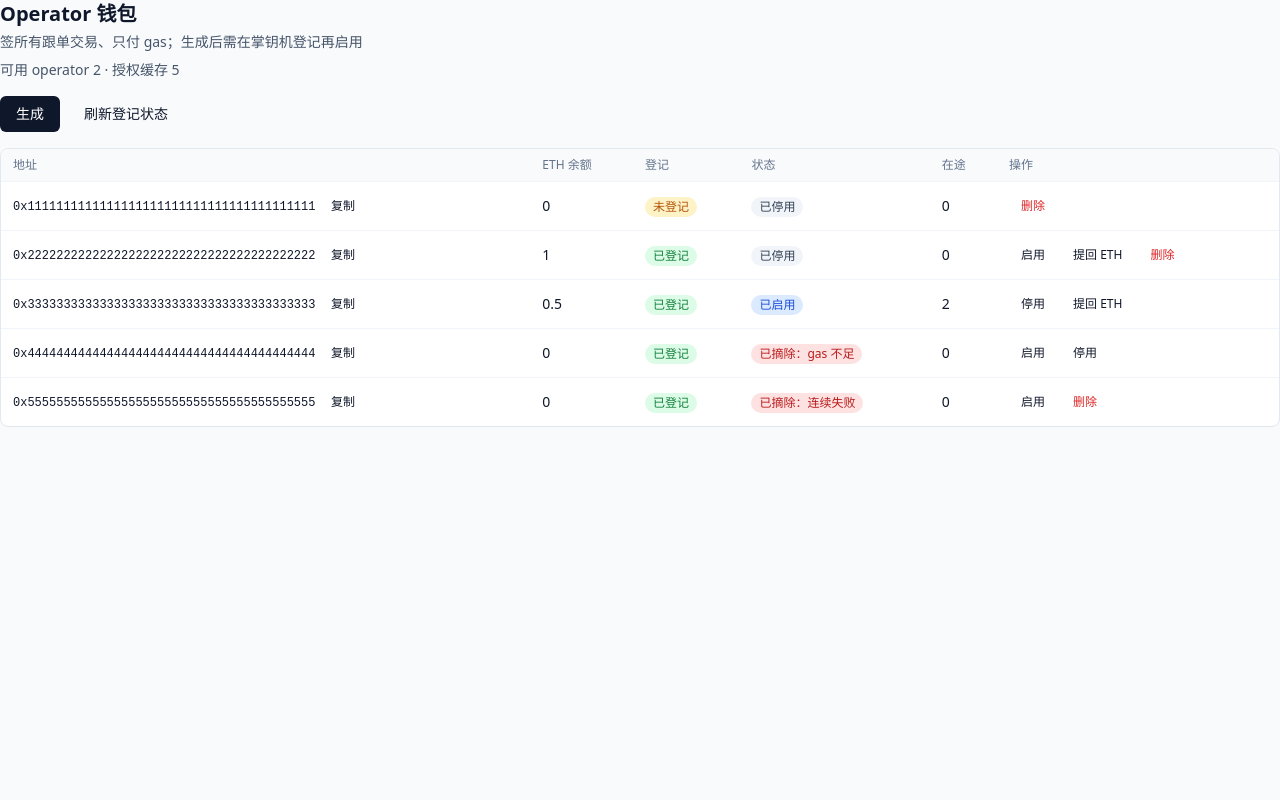
Scenario: shows a force-bypassable 409 delete message with a 强制删除 button that retries with force=true
Click the 2nd button "删除": click(1162, 255) [1138,239,1186,271]
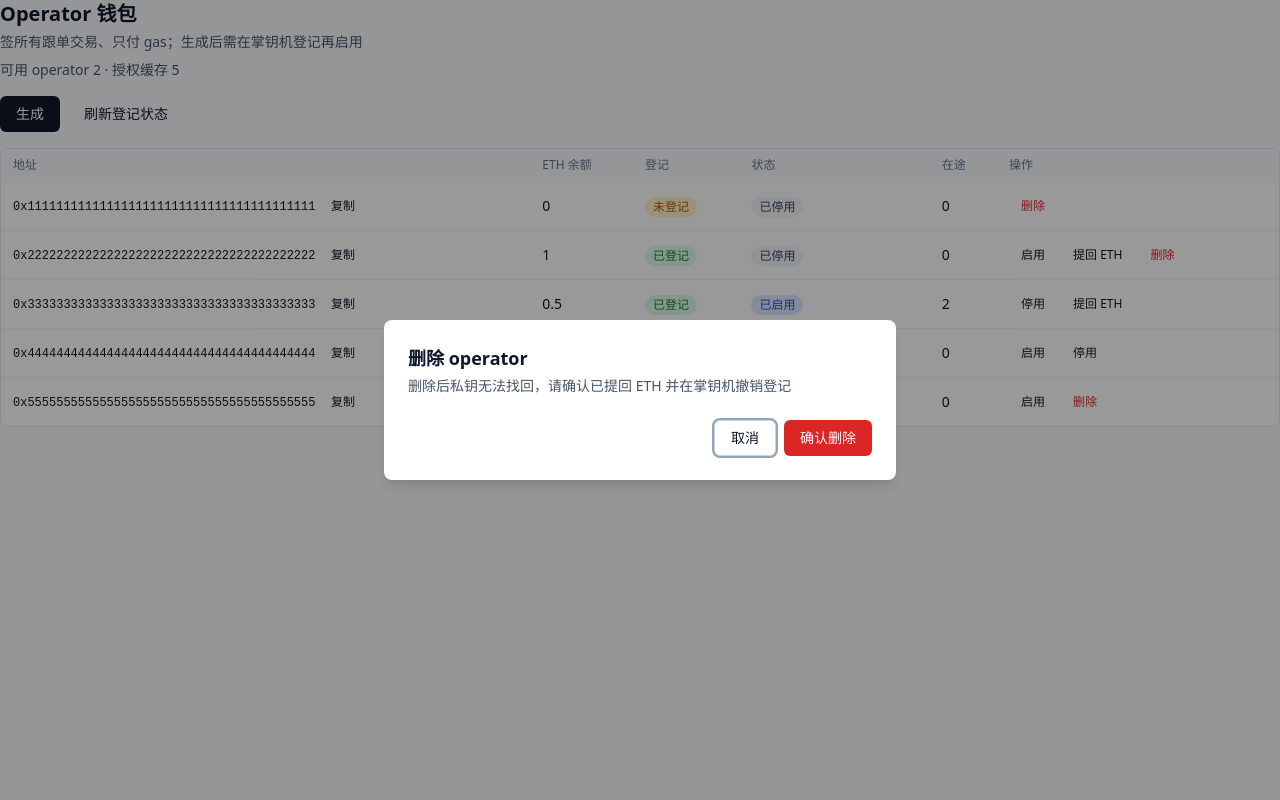
Click the button "确认删除": click(828, 438) [784,420,872,456]
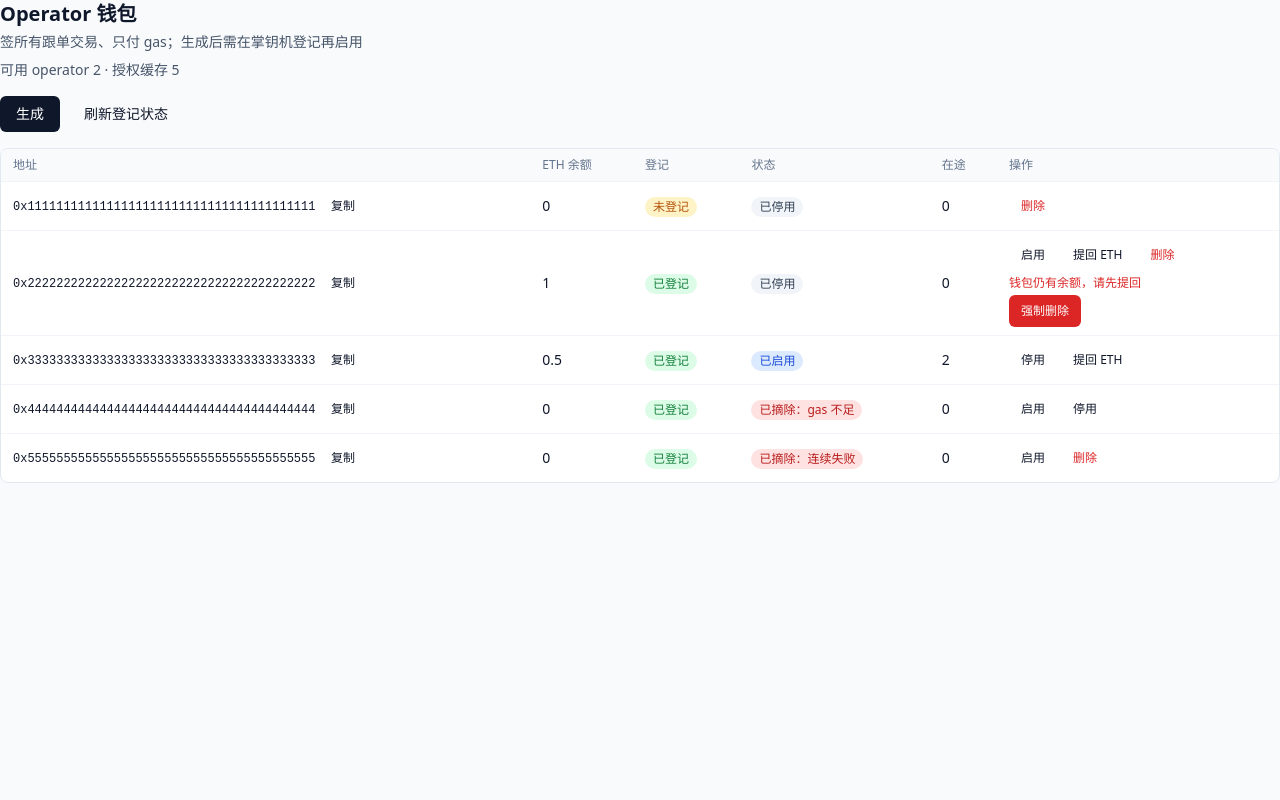
Expected: the text "钱包仍有余额，请先提回" is shown, [1009,274,1141,291]
Click the button "强制删除": click(1045, 311) [1009,295,1081,327]
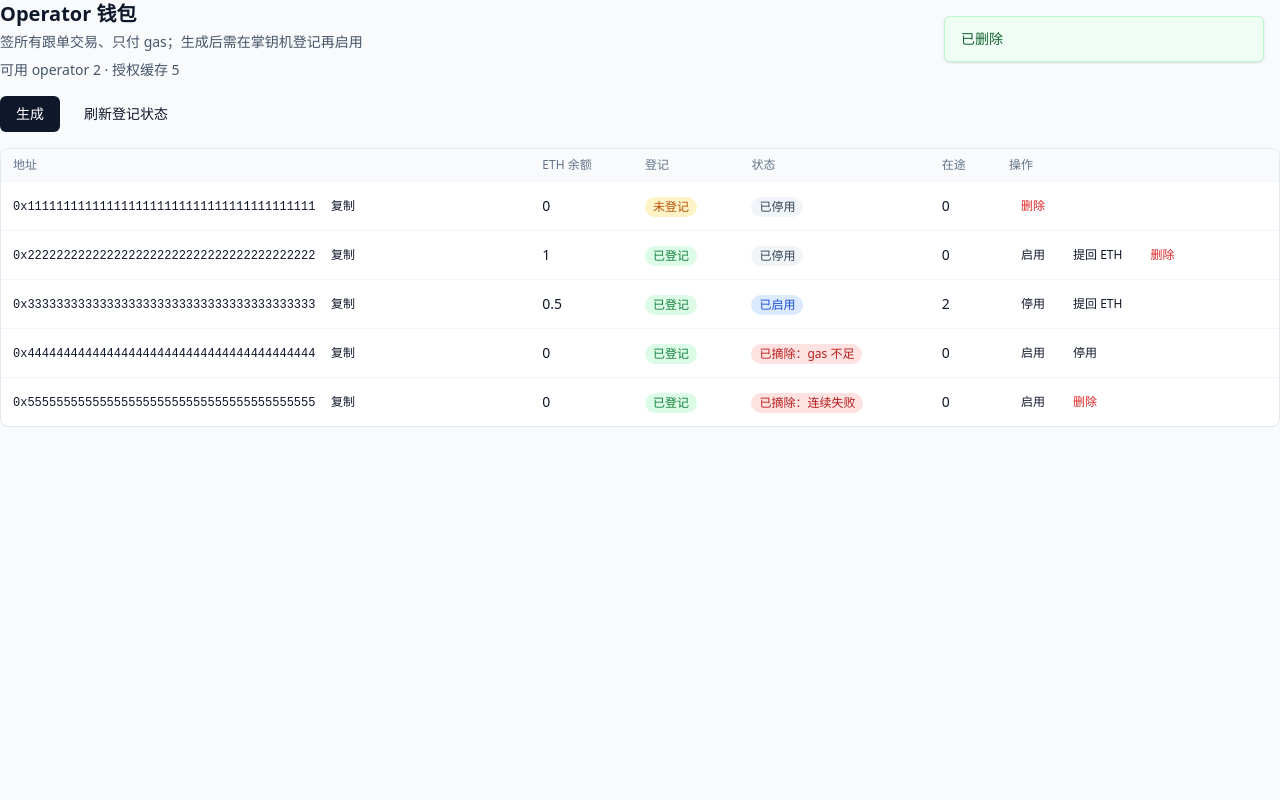
Expected: the text "已删除" is shown, [944,16,1264,62]
